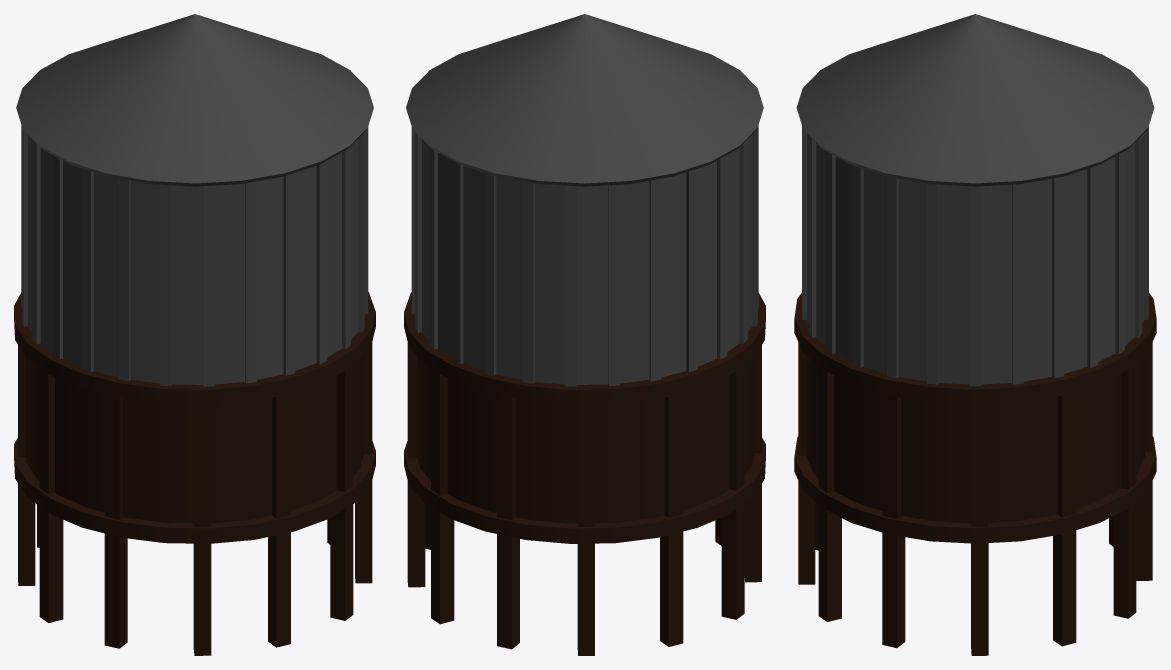
File: Silo.FBX
The picture shows the model from 3 angles, left to right: view 1: azimuth 30°, elevation 25°; view 2: azimuth 150°, elevation 25°; view 3: azimuth 270°, elevation 25°; orthographic projection.
Visible parts, largest first — view 1: Cylinder002, Cylinder001, Cone001, Box009, Box002, Box004, Box007, Box011, Box006, Box005; view 2: Cylinder002, Cylinder001, Cone001, Box005, Box014, Box012, Box007, Box003, Box010, Box009; view 3: Cylinder002, Cylinder001, Cone001, Box006, Box010, Box004, Box012, Box008, Box002, Box014.
Part boxes in pixels (x1,y1,x2,y2): Cylinder002: (21,125,368,386); Cylinder001: (14,292,375,543); Cone001: (16,14,373,186); Box009: (104,395,127,648); Box002: (268,393,290,647); Box004: (330,366,353,620); Box007: (39,368,63,622); Box011: (193,405,211,655); Box006: (355,342,372,583); Box005: (18,345,35,585); Cylinder002: (411,125,758,386); Cylinder001: (404,292,765,543); Cone001: (406,14,763,186); Box005: (660,393,683,646); Box014: (497,395,519,649); Box012: (431,368,454,624); Box007: (721,365,744,619); Box003: (577,405,594,655); Box010: (407,342,425,587); Box009: (744,345,761,582); Cylinder002: (802,126,1148,386); Cylinder001: (794,293,1156,543); Cone001: (796,14,1154,186); Box006: (882,394,905,648); Box010: (1053,391,1076,646); Box004: (818,366,841,621); Box012: (1113,363,1136,618); Box008: (971,404,988,655); Box002: (798,342,815,584); Box014: (1136,342,1152,580).
Size of the model in its own units: 63.78 by 110 by 63.91.
